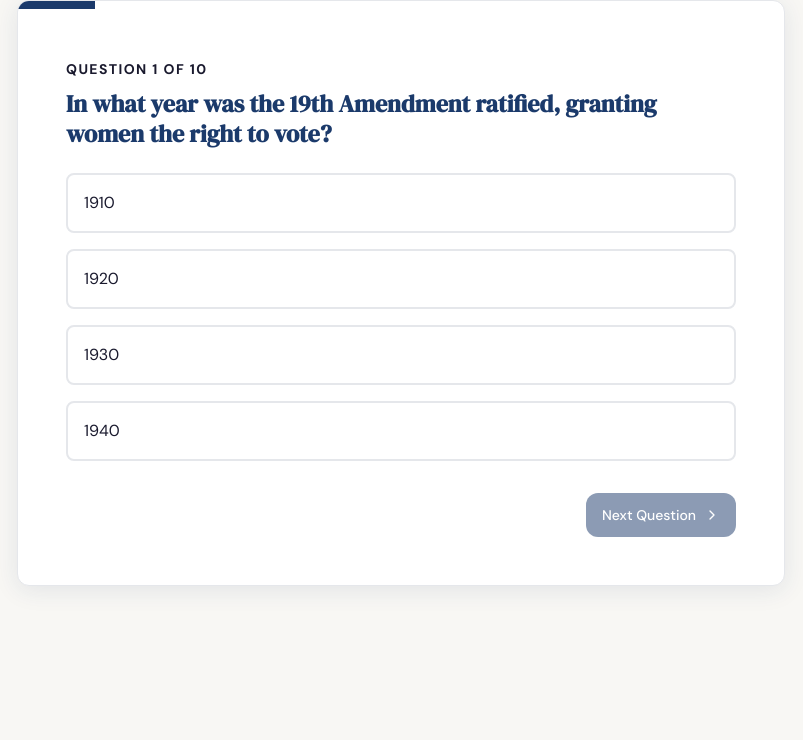
Test: QuizEngine › allows selecting an option
Step 1. Click the button "1920" → (101, 278), box top-left (66, 249), bottom-right (736, 309)
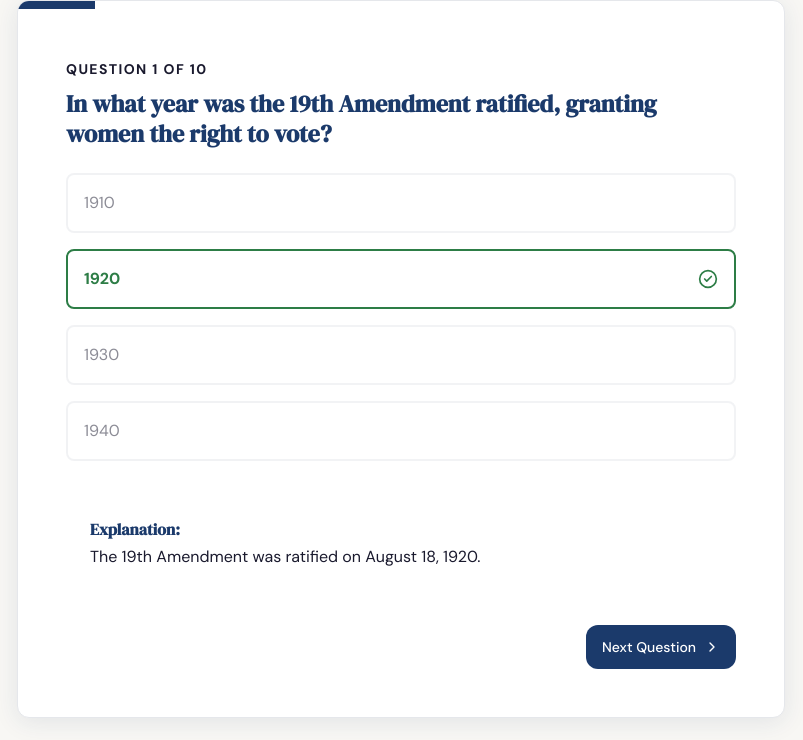
Expected: the heading "Explanation:" is shown, top-left (90, 518), bottom-right (180, 540)
